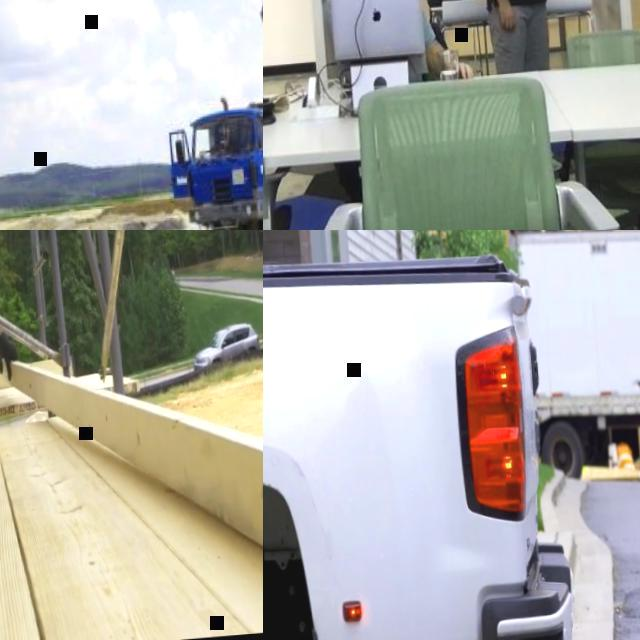machinery: (152, 0, 263, 230)
person: (337, 0, 476, 87), (471, 0, 577, 71)
safety_cone: (615, 442, 634, 472)
vehicle: (263, 230, 640, 640), (190, 322, 262, 371)
